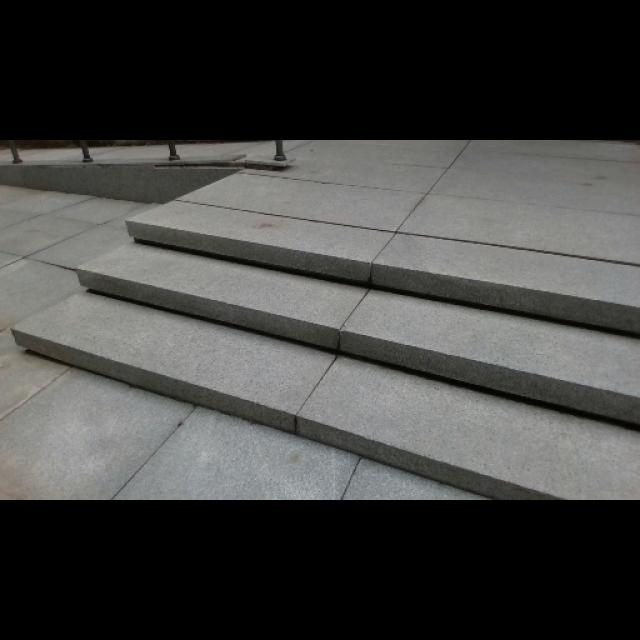Stairs: (7, 160, 638, 499)
